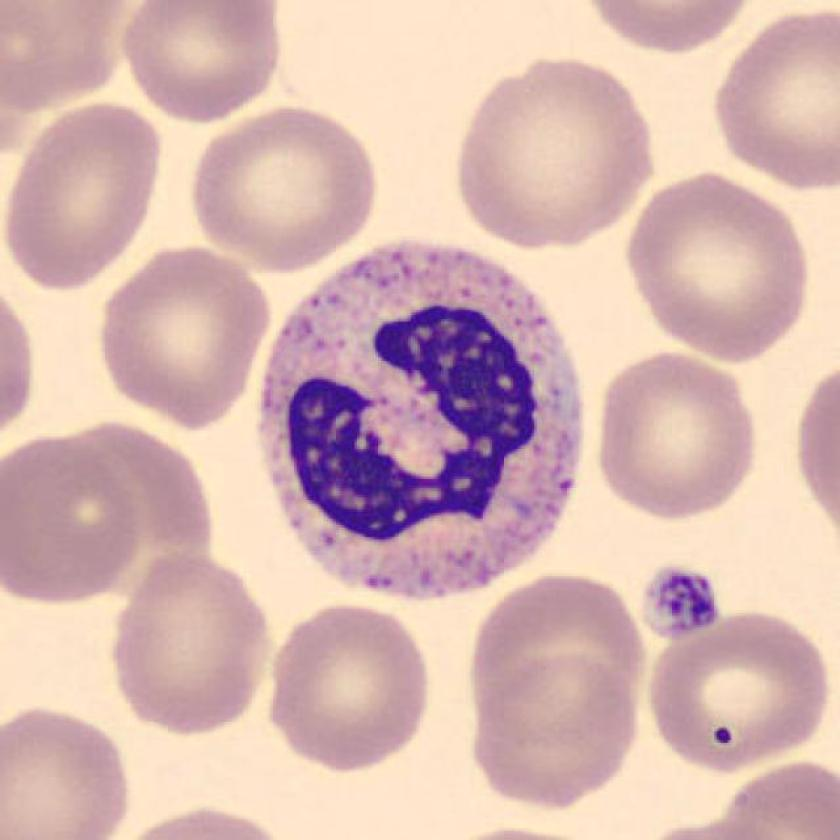neutrophil: (261, 239, 584, 601)
